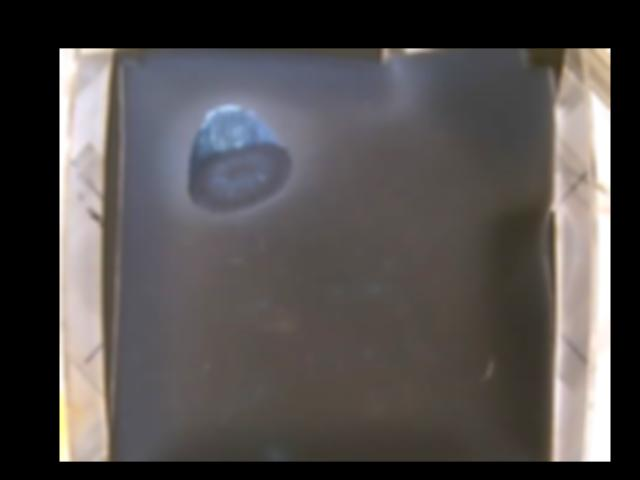Mooli: (186, 106, 292, 215)
